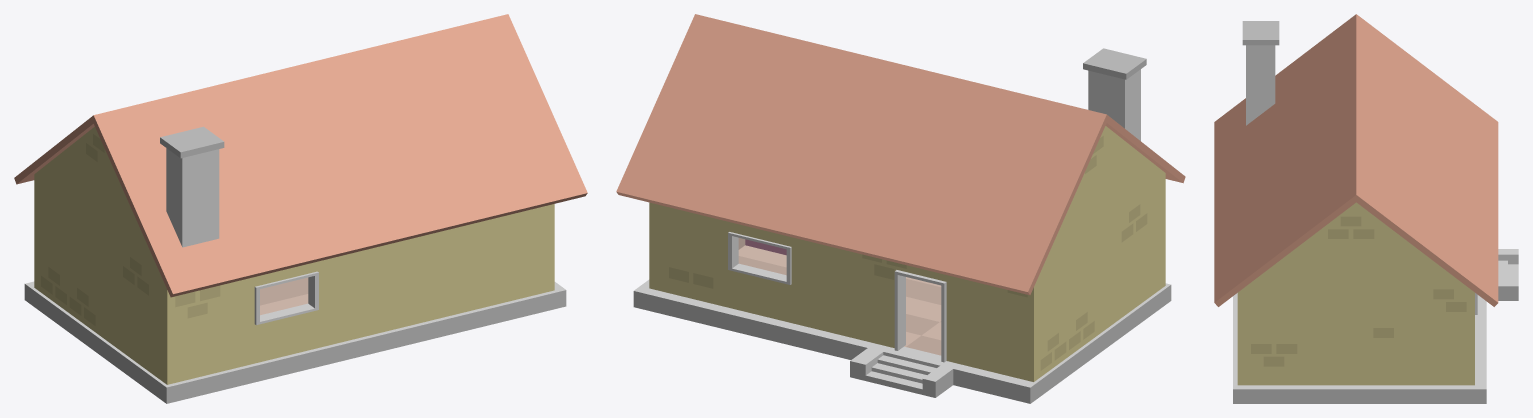
File: HouseFurnished.fbx
The picture shows the model from 3 angles, left to right: view 1: azimuth 30°, elevation 25°; view 2: azimuth 150°, elevation 25°; view 3: azimuth 270°, elevation 25°; orthographic projection. The views are drawn at different scales.
Visible parts, largest first — view 1: HouseFurnished; view 2: HouseFurnished; view 3: HouseFurnished.
Boxes of the visible parts, x1,y1,x2,y2 form: HouseFurnished: [14, 14, 587, 403]; HouseFurnished: [616, 14, 1185, 403]; HouseFurnished: [1214, 14, 1518, 403].
Size of the model in its own units: 12.16 by 6.81 by 8.64.
